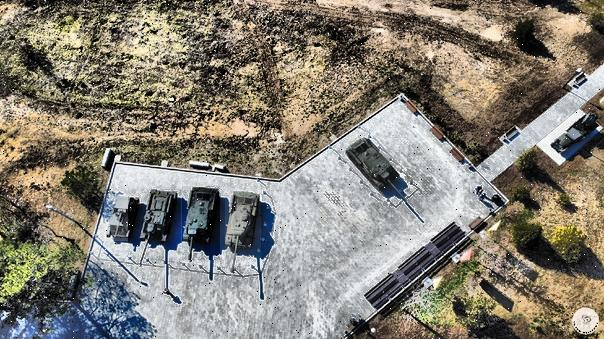military-vehicle: (129, 189, 182, 264), (346, 139, 407, 204), (226, 190, 262, 273), (183, 187, 221, 261), (104, 194, 141, 241)
